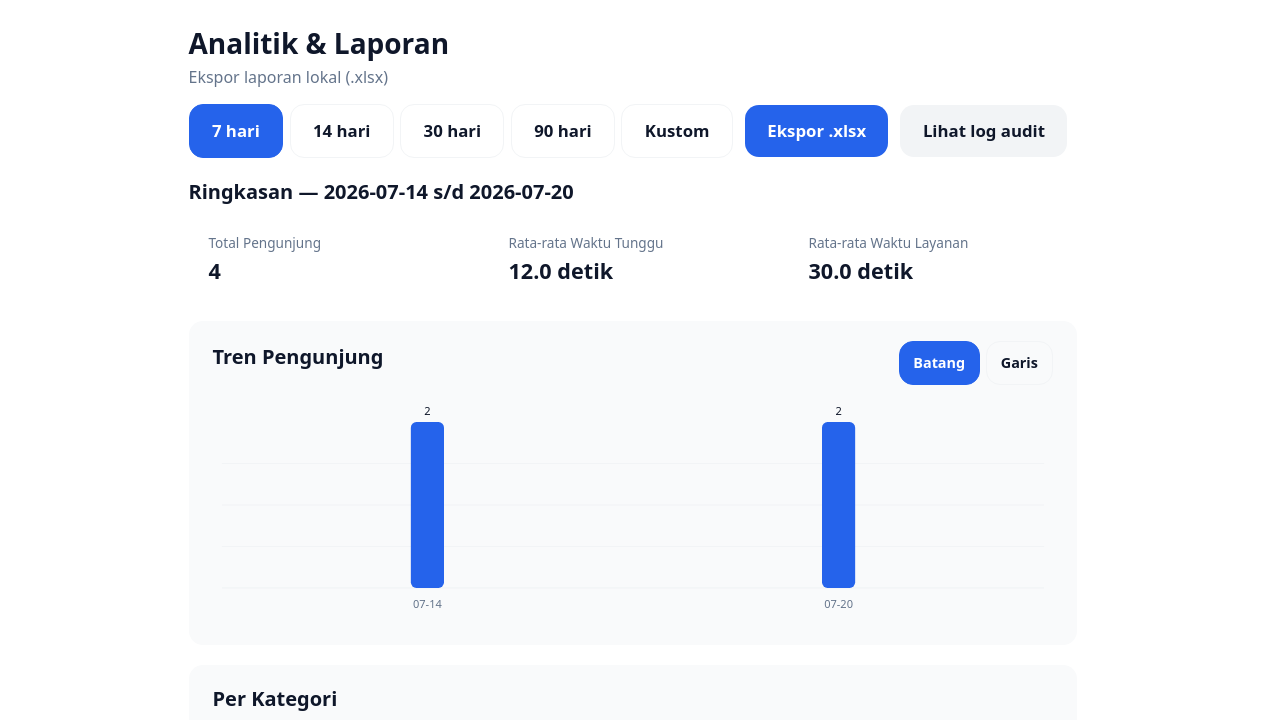
AnalyticsPage — export feedback › announces a successful export
This screenshot has width=1280, height=720.
Expected: the text "4" is shown, [208,256,221,285]
Click the button with test id "analytics-export".
click(817, 131)  # box [745,105,888,157]
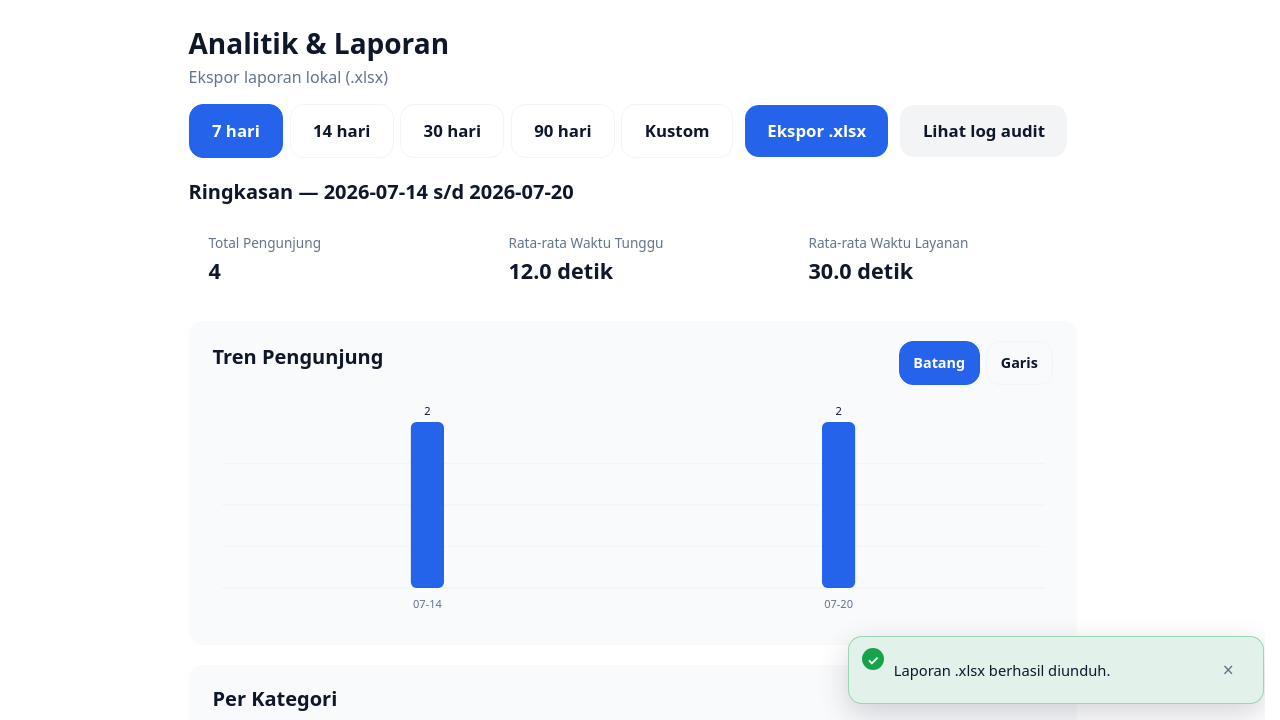
Now the text "Laporan .xlsx berhasil diunduh." is shown, box [894,660,1110,680]
